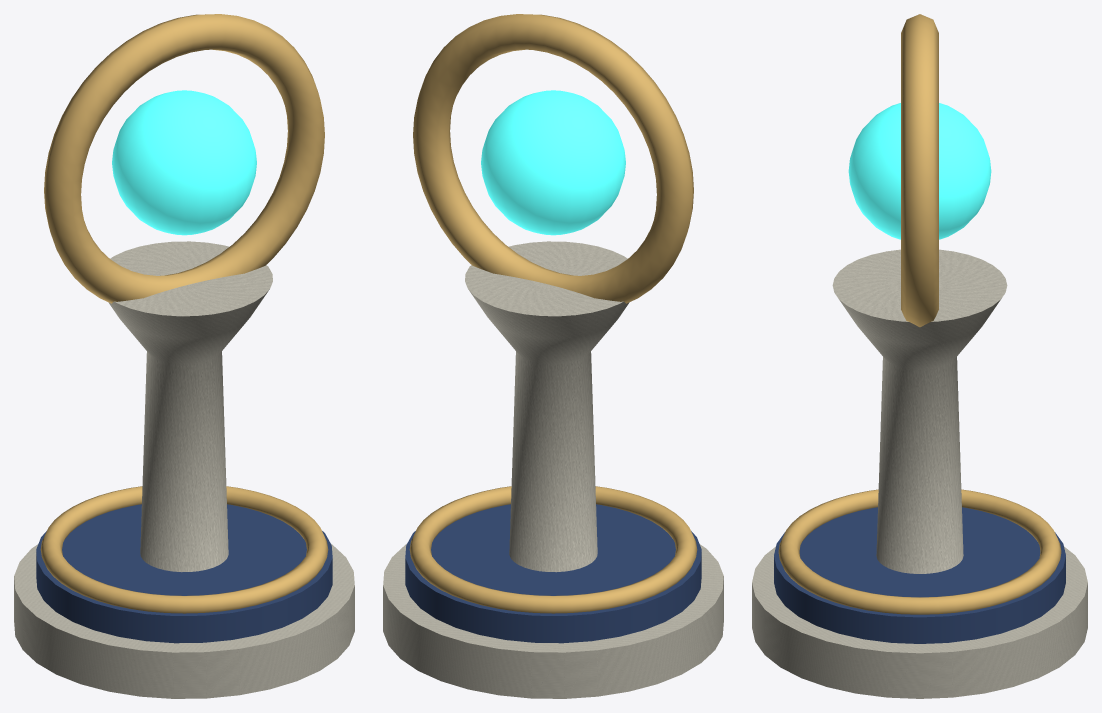
File: arcane-academy-and-spell-trials-portal-stabilizer-cd7a4f0d__28291.glb
3 renders of one model, left to right at view 1: azimuth 30°, elevation 25°; view 2: azimuth 150°, elevation 25°; view 3: azimuth 270°, elevation 25°, orthographic.
Parts seen in each view (by area): view 1: portal-stabilizer; view 2: portal-stabilizer; view 3: portal-stabilizer.
Part boxes in pixels (box(x1,y1,x2,y2)): portal-stabilizer: box(14, 14, 354, 698); portal-stabilizer: box(383, 14, 723, 698); portal-stabilizer: box(752, 14, 1087, 698).
Bounding box in the file's own units: 0.8 × 1.58 × 0.8.
4 materials, 1 textured.
